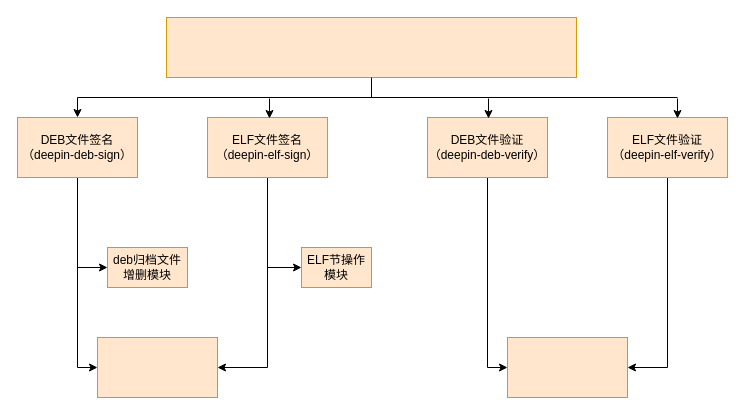
This 745x415 diagram has some shape labels left out. Each missing label, with the box of its shape:
PKCS7签名模块: (96, 336, 218, 398)
PKCS7签名模块 （验签功能）: (506, 336, 628, 398)
UOS多证书签名系统: (166, 16, 576, 78)
